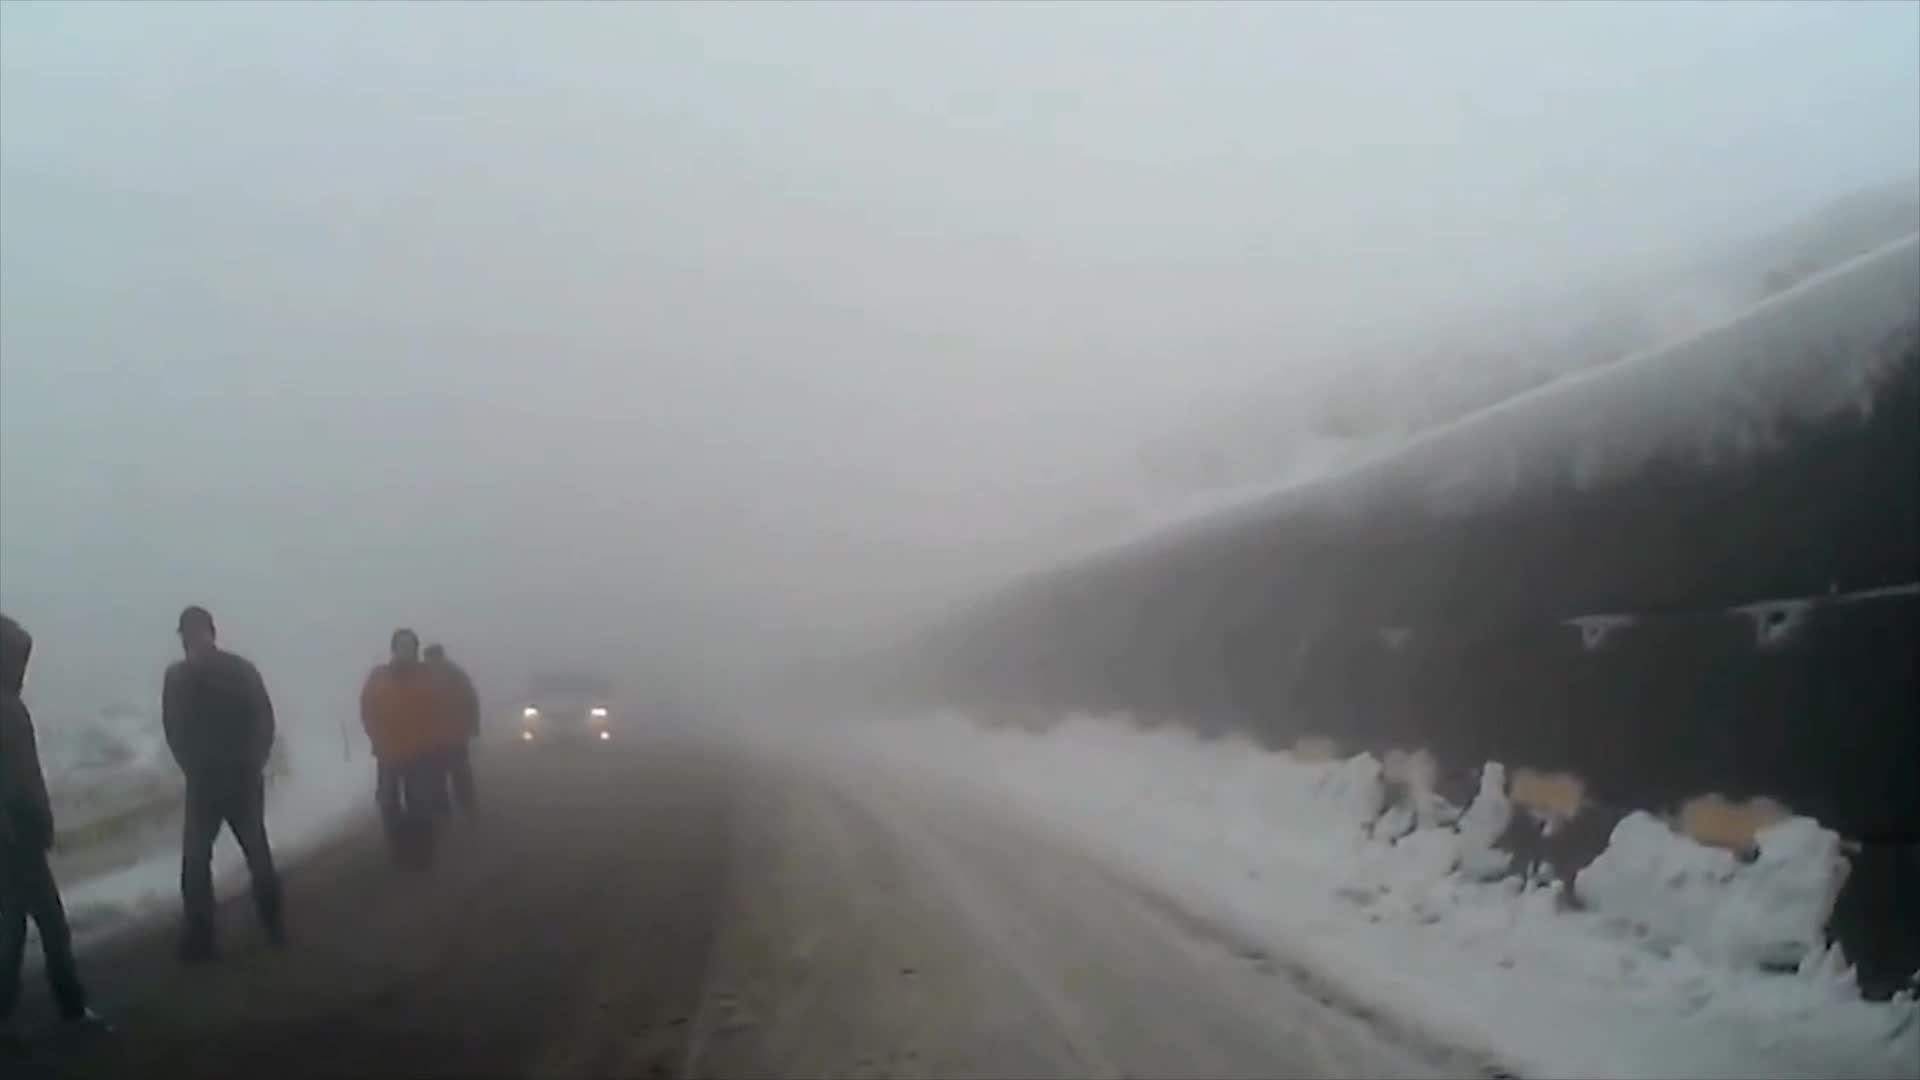pedestrian: (1, 617, 117, 1028), (160, 607, 289, 968), (357, 624, 454, 868)
vehicle: (517, 670, 618, 759), (521, 688, 622, 777)
